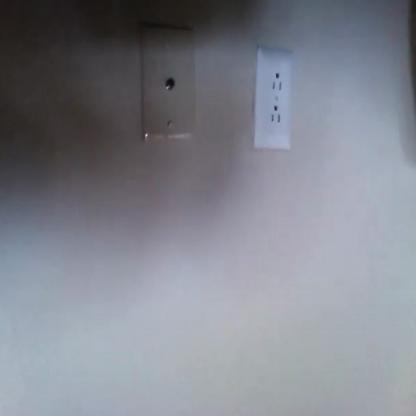OUTLET: (256, 48, 294, 150)
